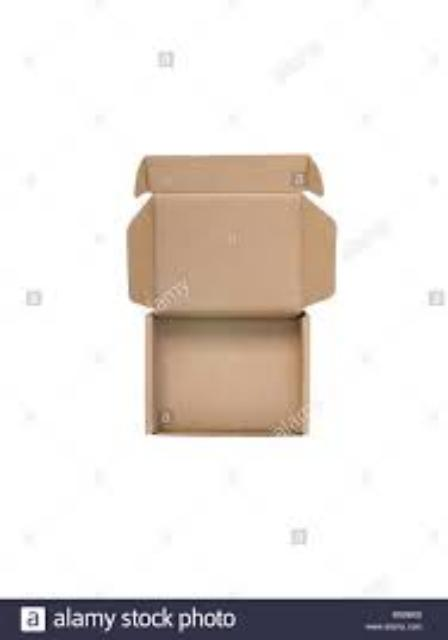cardboard paper: (124, 153, 332, 430)
